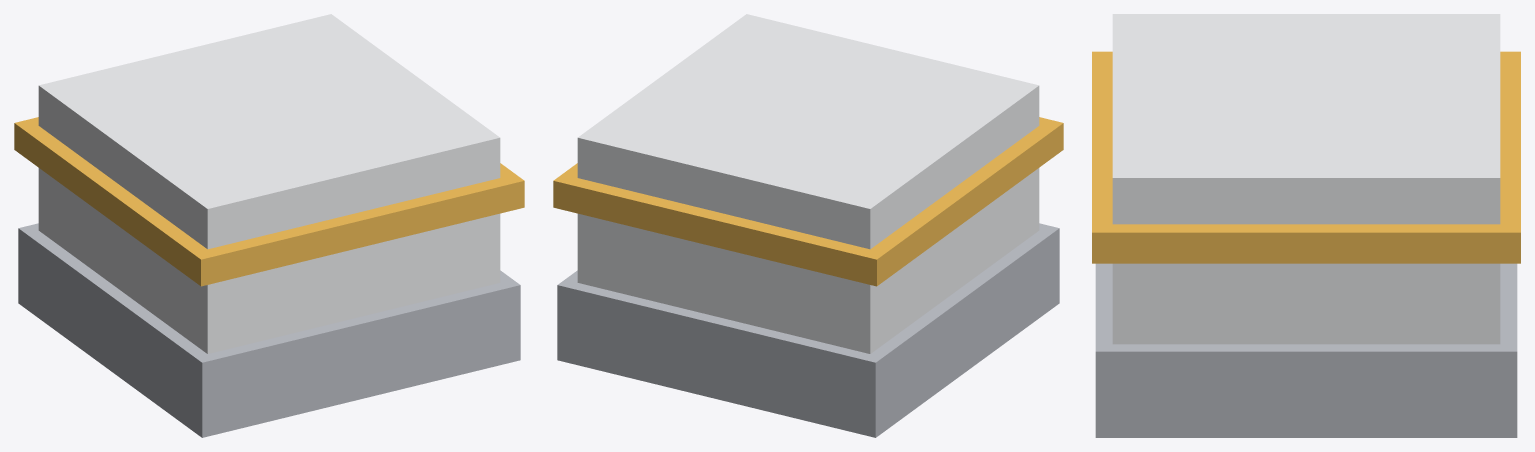
File: astronauta_manga_inf.glb
The picture shows the model from 3 angles, left to right: view 1: azimuth 30°, elevation 25°; view 2: azimuth 150°, elevation 25°; view 3: azimuth 270°, elevation 25°; orthographic projection. The views are drawn at different scales.
Parts seen in each view (by area): view 1: astronauta_manga_inf; view 2: astronauta_manga_inf; view 3: astronauta_manga_inf.
Part boxes in pixels (x1=…): astronauta_manga_inf: x1=14, y1=14, x2=524, y2=437; astronauta_manga_inf: x1=553, y1=14, x2=1063, y2=437; astronauta_manga_inf: x1=1092, y1=14, x2=1520, y2=437.
Bounding box in the file's own units: 0.315 × 0.21 × 0.315.
